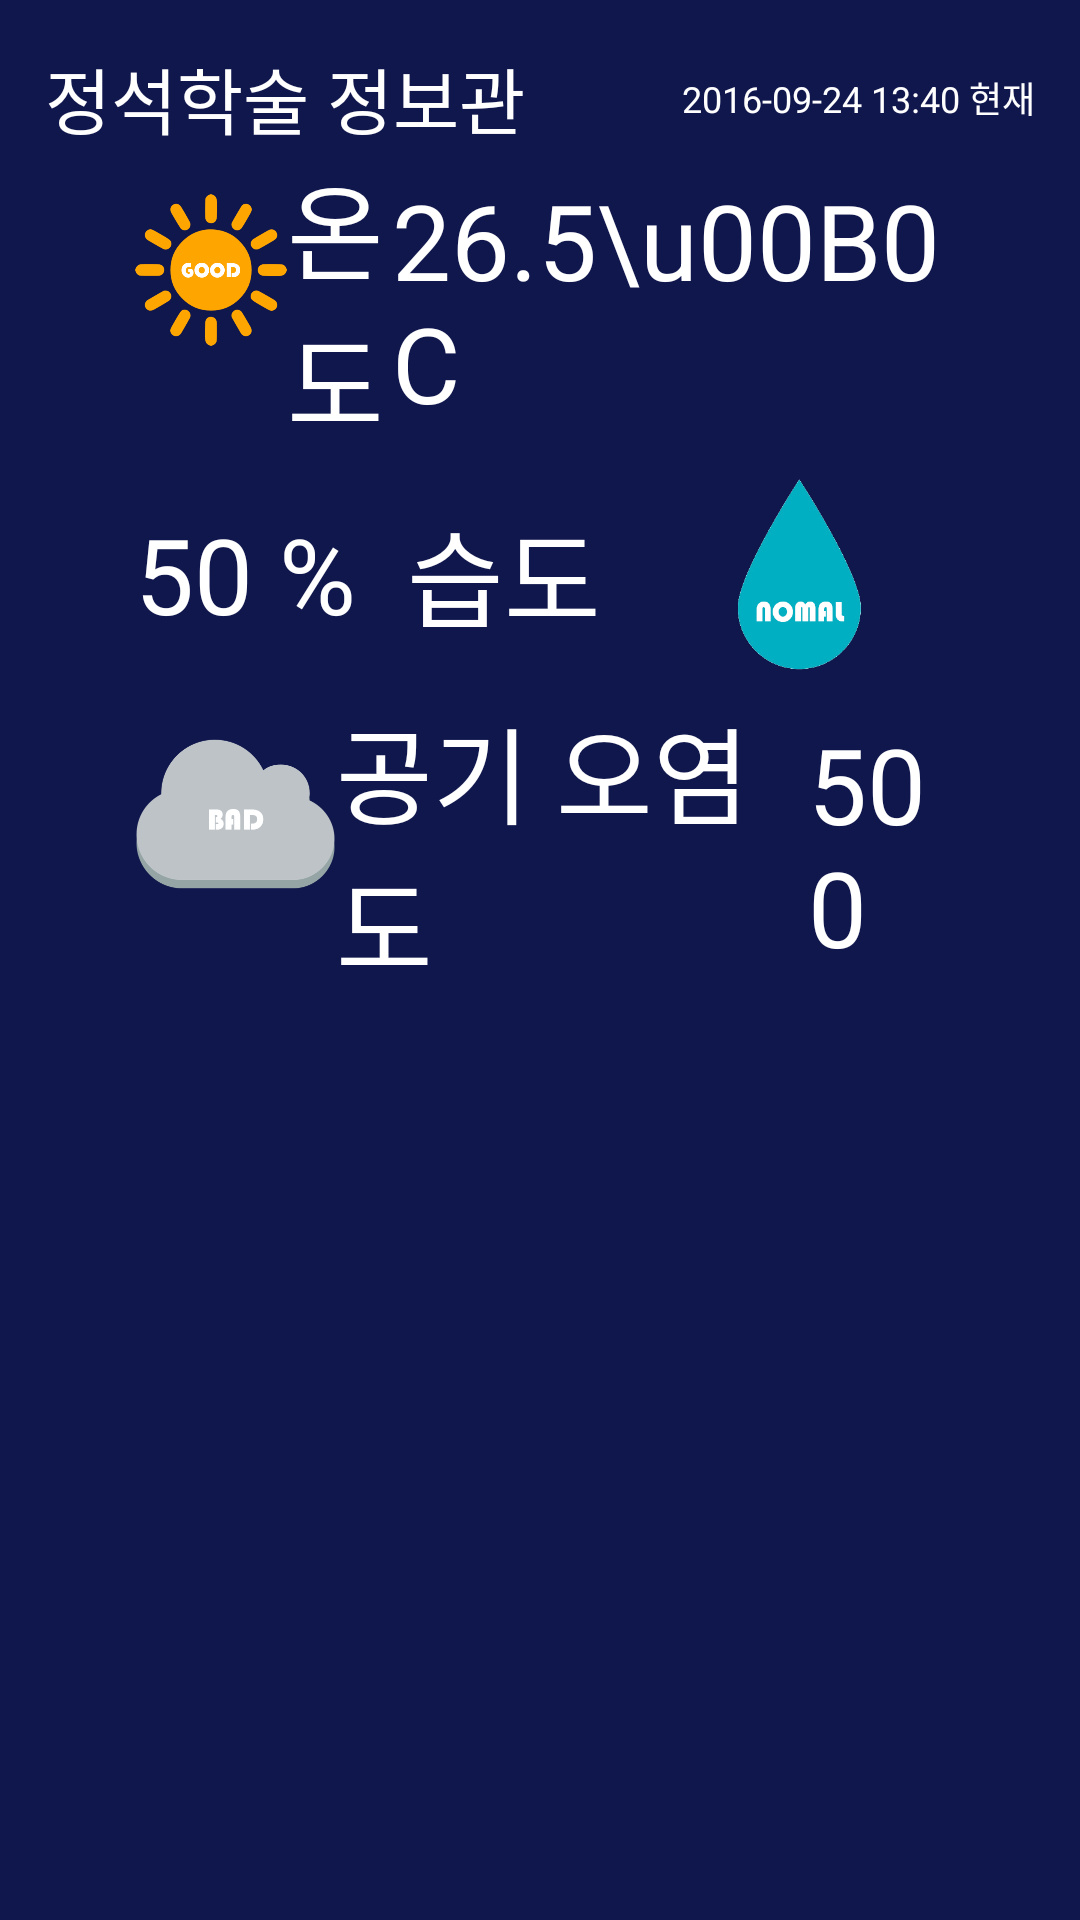

Screen size 1080 × 1920. Icon name, then its box in pixels as (x1, y1, x2, y2):
raindrop: (738, 479, 861, 670)
